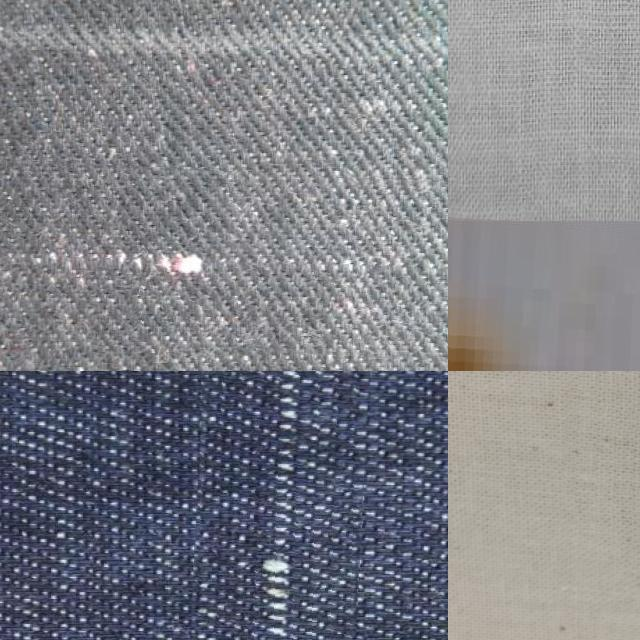Thread_other: (448, 217, 640, 371)
stains: (0, 163, 448, 356), (183, 371, 364, 640), (554, 371, 640, 640)
